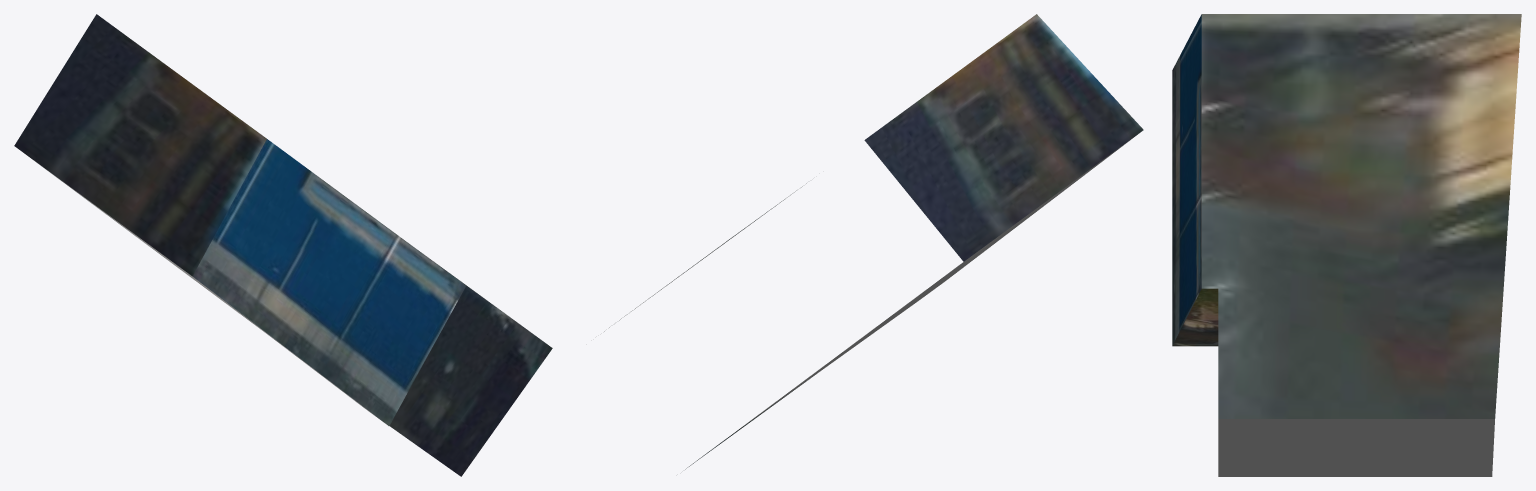
File: input.glb
The picture shows the model from 3 angles, left to right: view 1: azimuth 30°, elevation 25°; view 2: azimuth 150°, elevation 25°; view 3: azimuth 270°, elevation 25°; orthographic projection. The views are drawn at different scales.
Visible parts, largest first — view 1: B338311587601063A0.gltf; view 2: B338311587601063A0.gltf; view 3: B338311587601063A0.gltf.
Part boxes in pixels (x1,y1,x2,y2): B338311587601063A0.gltf: (14, 14, 552, 476); B338311587601063A0.gltf: (604, 14, 1143, 469); B338311587601063A0.gltf: (1172, 14, 1521, 476).
Bounding box in the file's own units: 15.61 × 15.28 × 13.08.
Materials: 1 (1 with a texture image).
